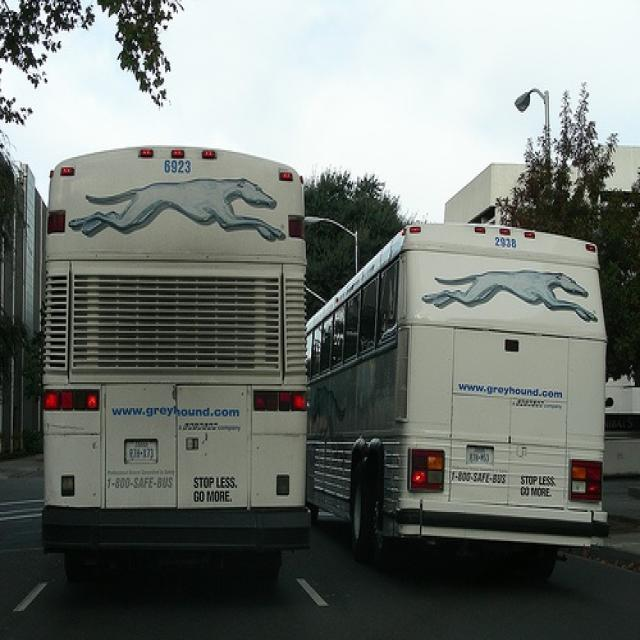bus: (40, 146, 310, 600), (310, 223, 617, 579)
